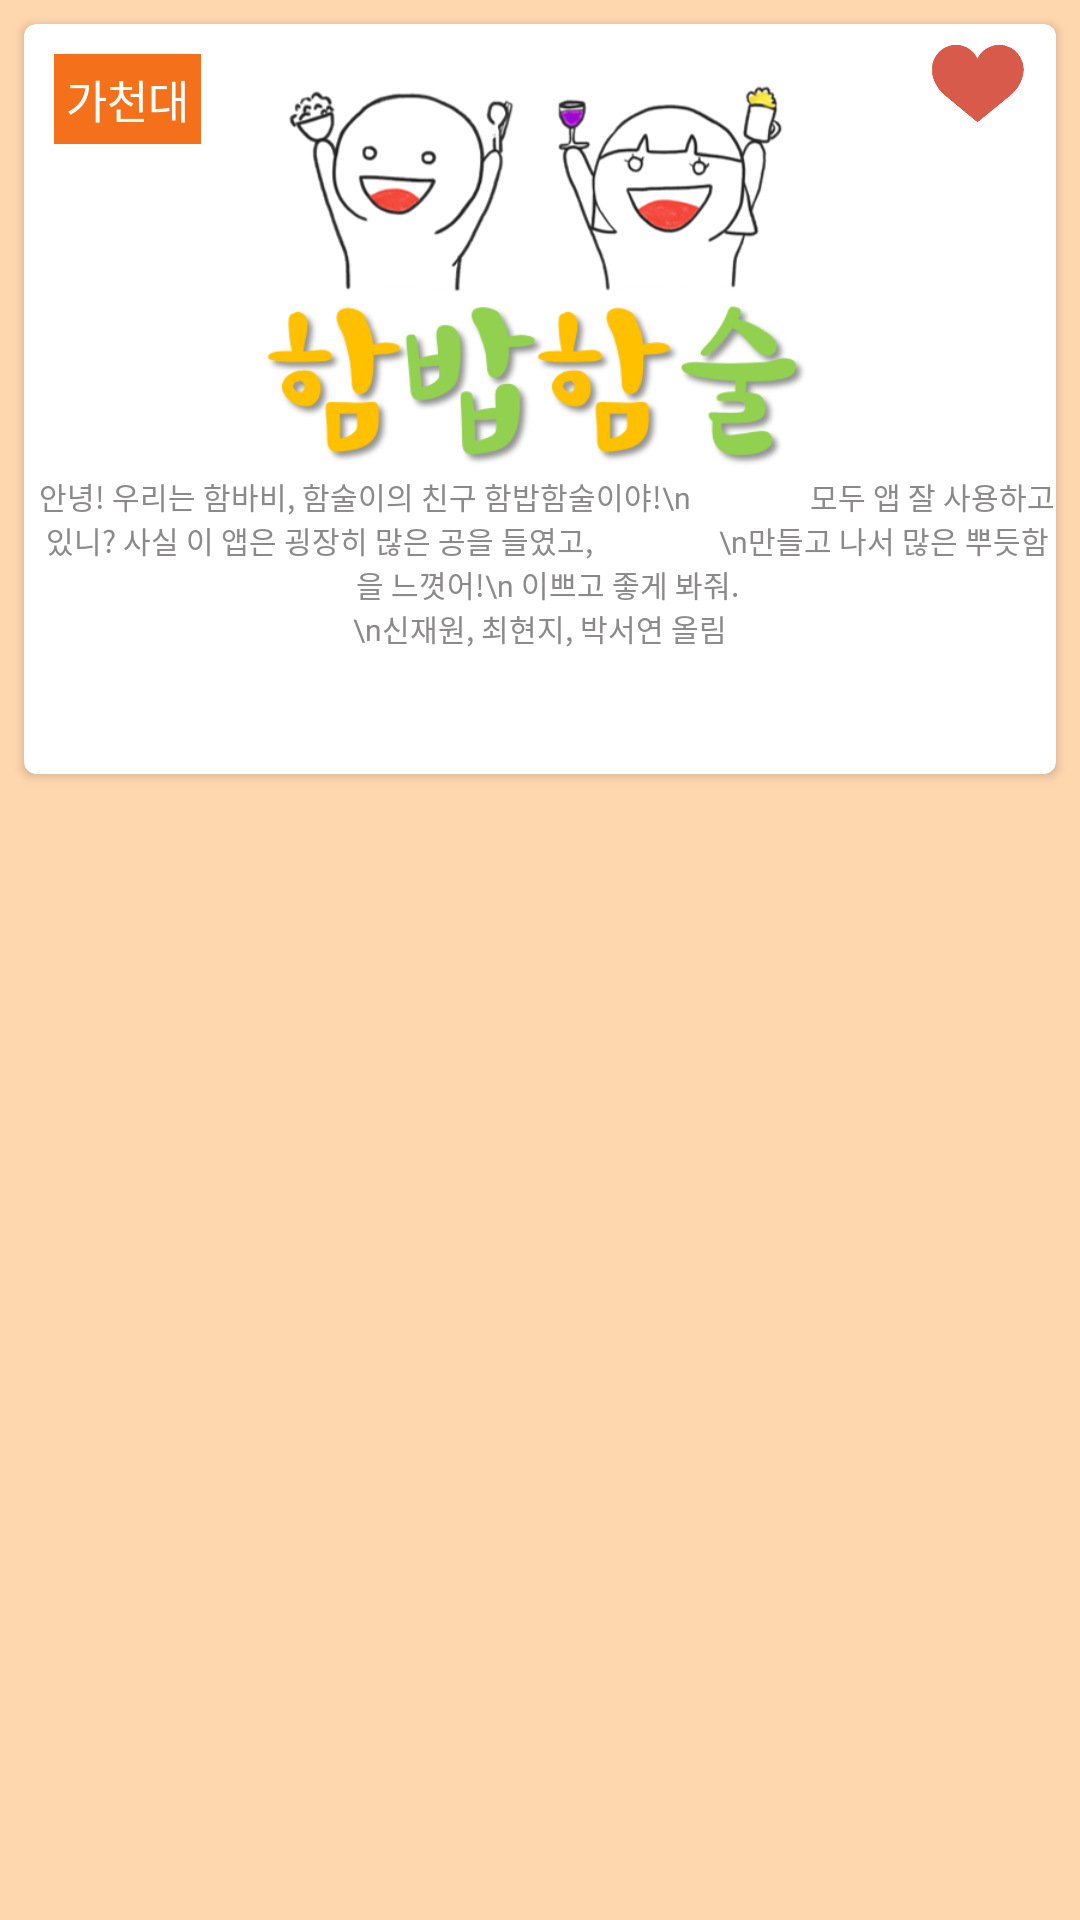

Where icons sit on this 1080x1920 app screen, as [left=x1, top=y1, right=x2, bottom=y2]:
jjim: [left=932, top=45, right=1024, bottom=122]
